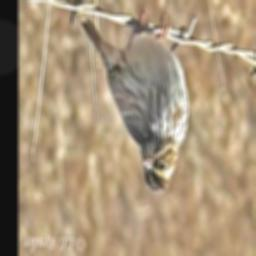Sparrow: (80, 6, 193, 196)
